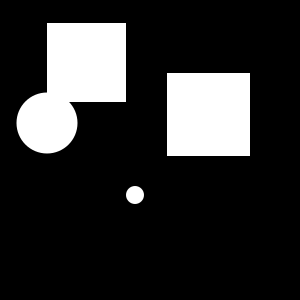circle: (167, 73, 250, 156), (47, 23, 126, 102)
rectangle: (17, 92, 78, 153), (126, 186, 144, 204)
